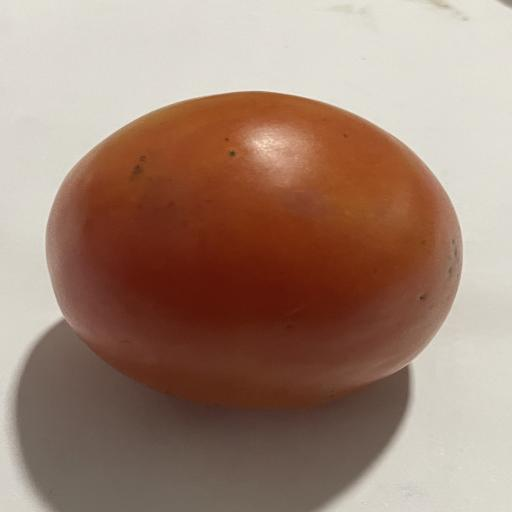ripe: (47, 92, 462, 408)
